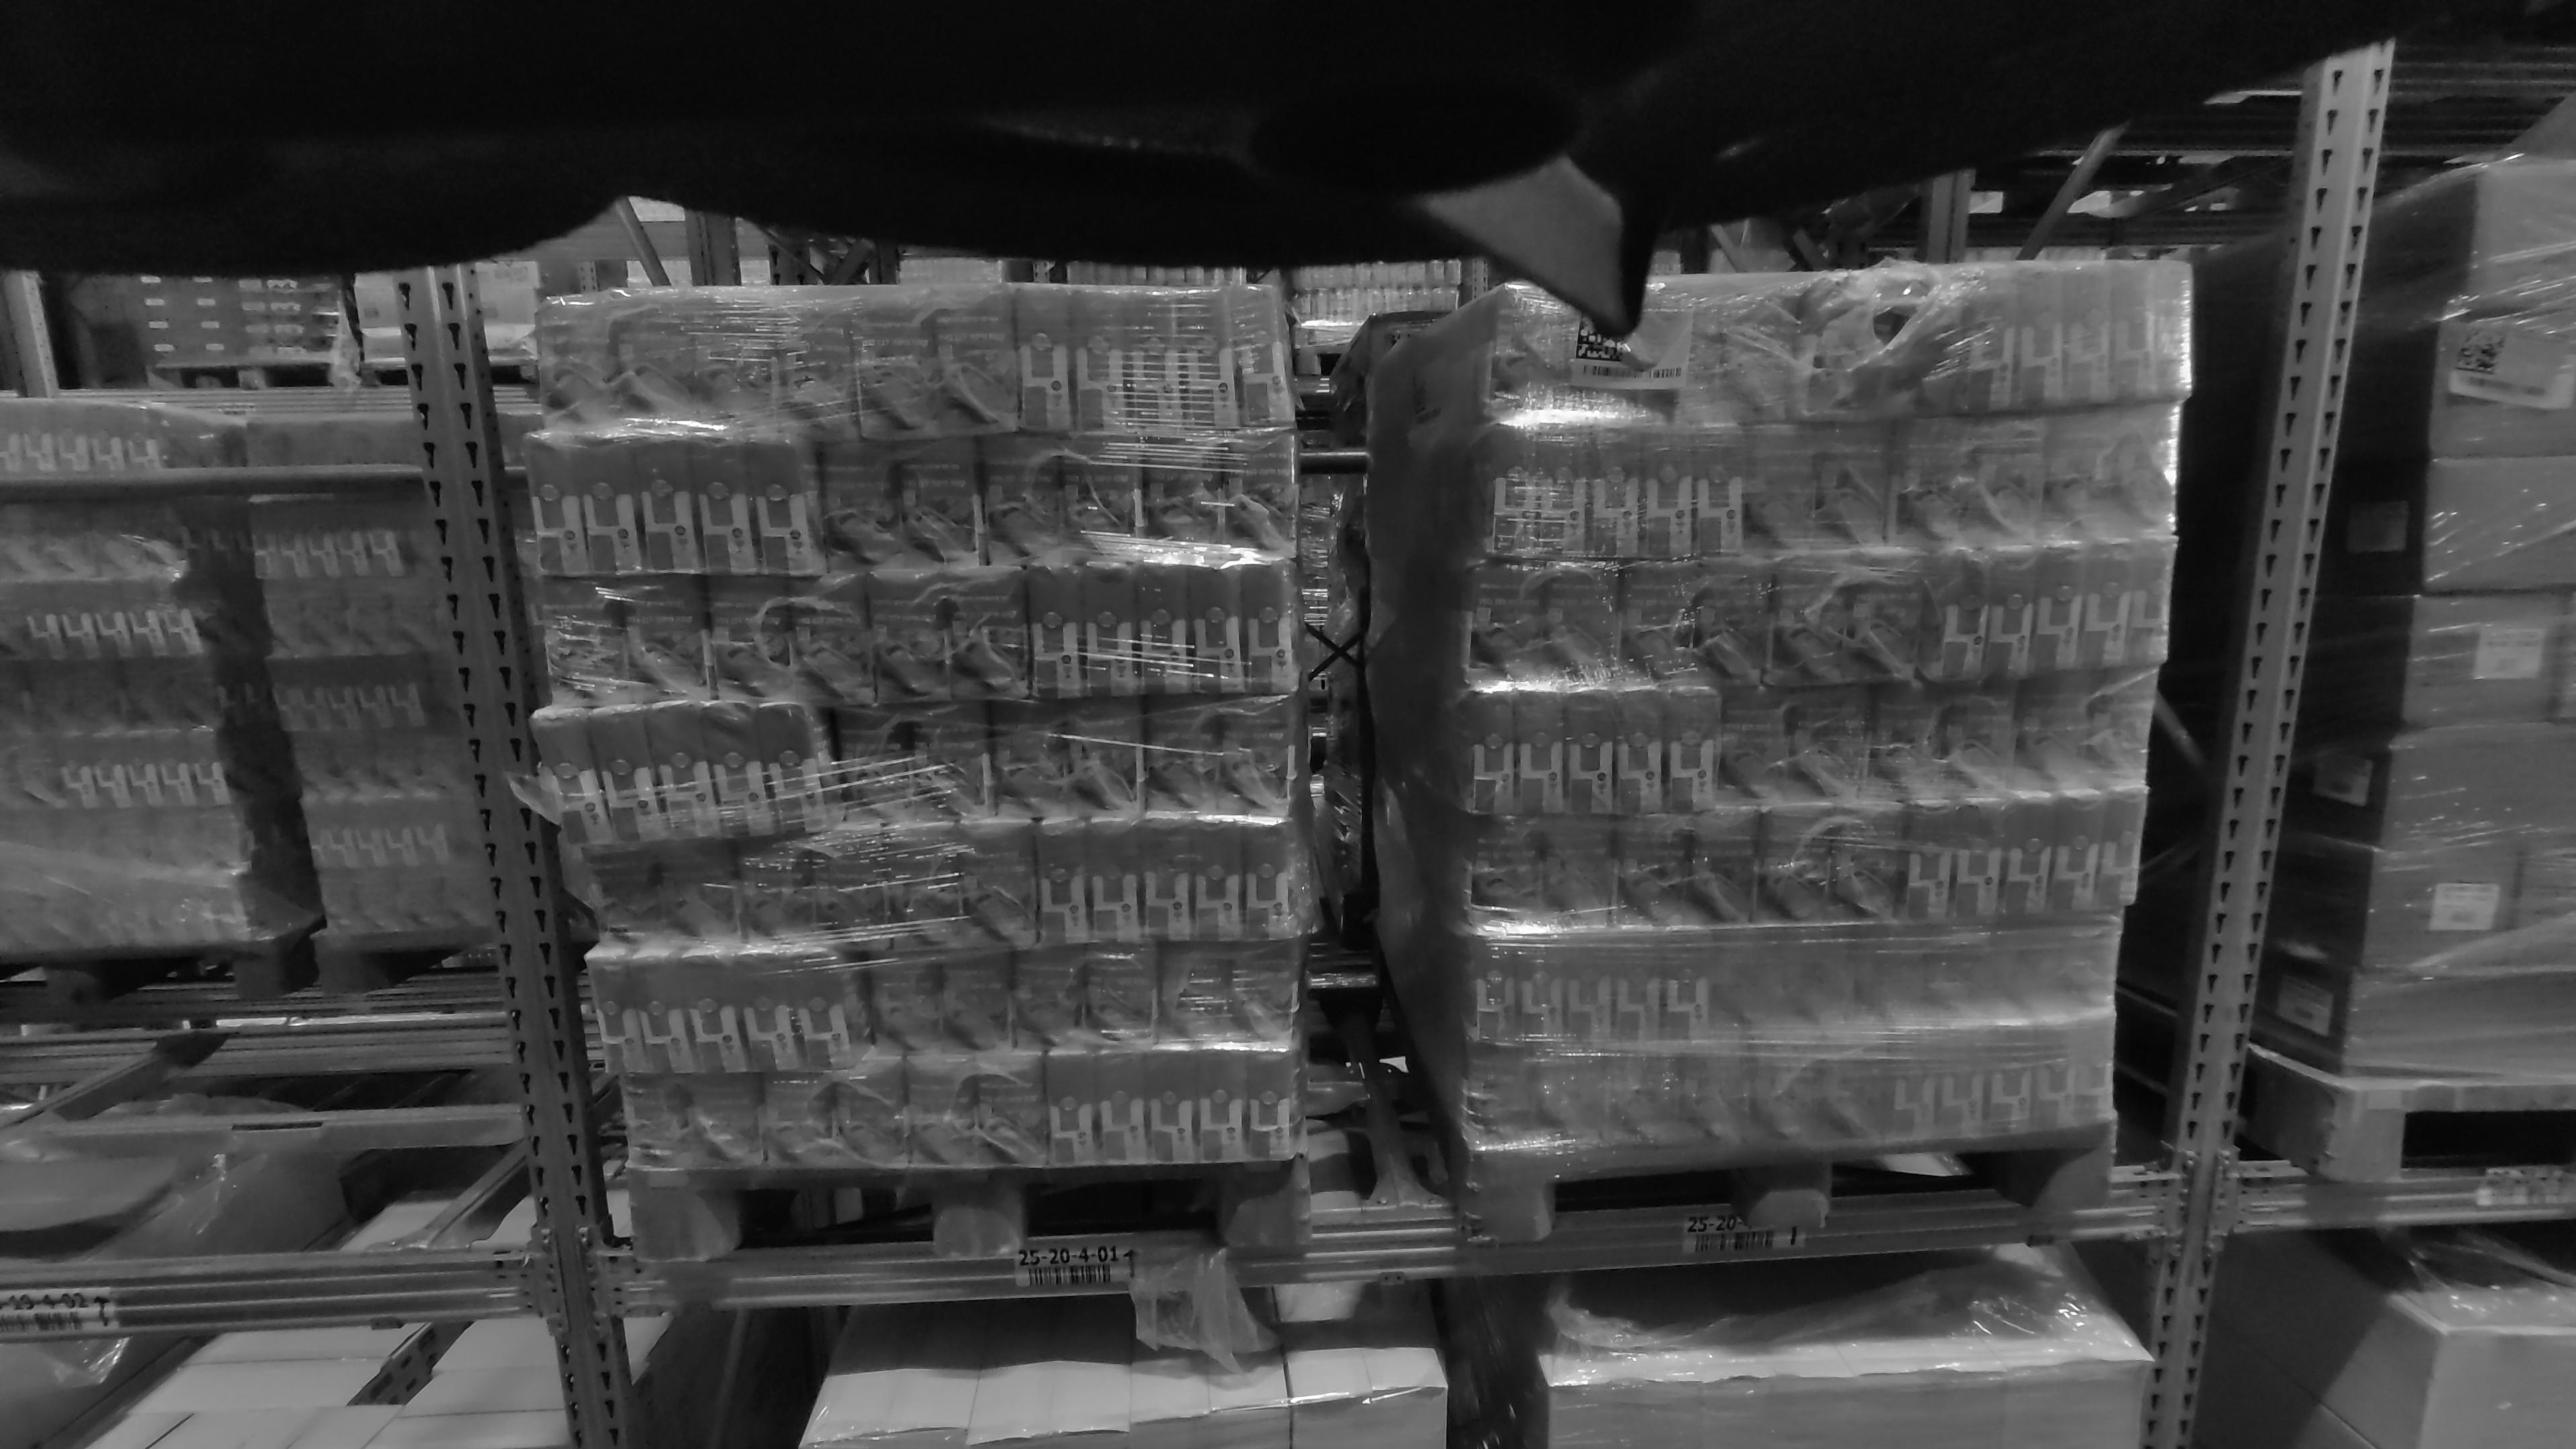empty-shelf: (0, 264, 499, 1246)
